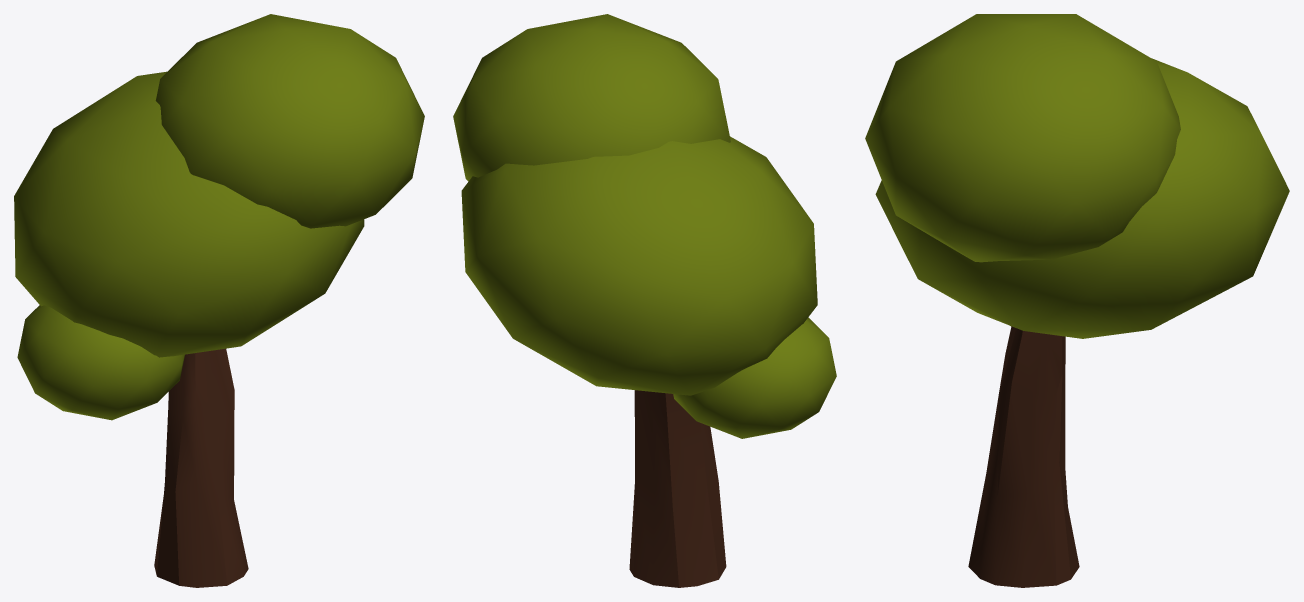
File: foliage_TreeA.fbx
3 renders of one model, left to right at view 1: azimuth 30°, elevation 25°; view 2: azimuth 150°, elevation 25°; view 3: azimuth 270°, elevation 25°, orthographic. The views are drawn at different scales.
Parts seen in each view (by area): view 1: TreeA; view 2: TreeA; view 3: TreeA.
Boxes of the visible parts, x1=… form: TreeA: x1=14, y1=14, x2=424, y2=587; TreeA: x1=453, y1=14, x2=836, y2=587; TreeA: x1=865, y1=14, x2=1289, y2=587.
Size of the model in its own units: 1264 by 1733 by 1136.
